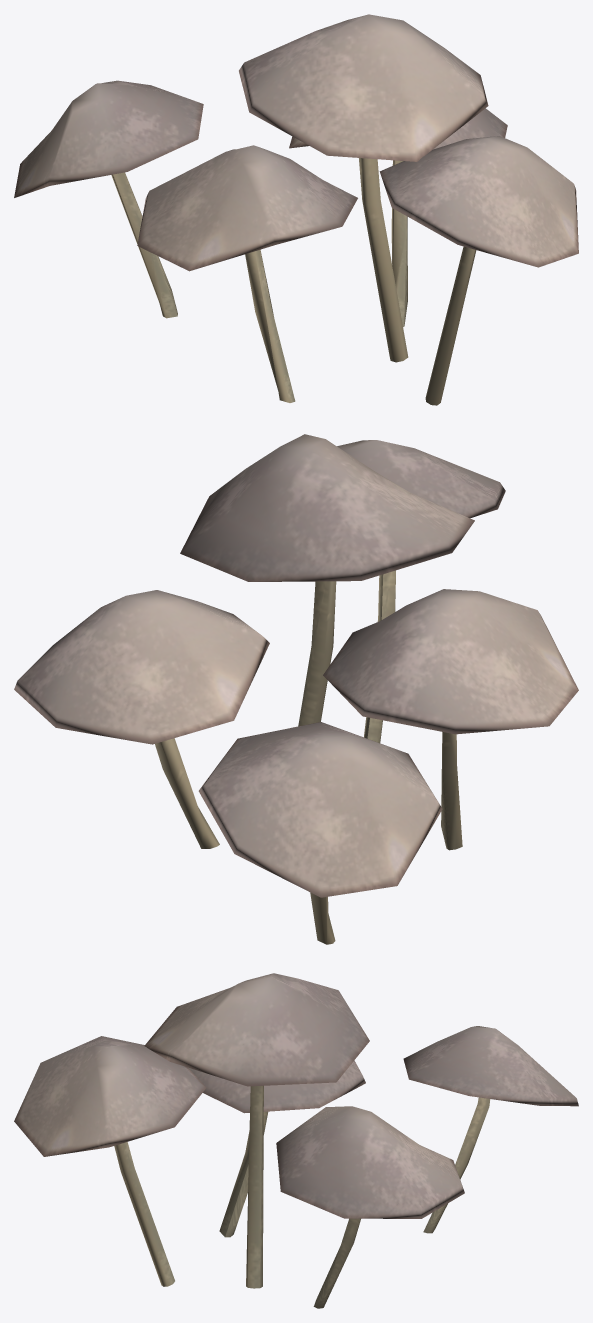
File: Mushroom_Common.gltf
The picture shows the model from 3 angles, top to bottom: view 1: azimuth 30°, elevation 25°; view 2: azimuth 150°, elevation 25°; view 3: azimuth 270°, elevation 25°; orthographic projection. The views are drawn at different scales.
Parts seen in each view (by area): view 1: Mushroom_Common; view 2: Mushroom_Common; view 3: Mushroom_Common.
Part boxes in pixels (x1,y1,x2,y2): Mushroom_Common: (14, 14, 578, 405); Mushroom_Common: (14, 434, 578, 944); Mushroom_Common: (14, 973, 578, 1308).
Bounding box in the file's own units: 0.5637 × 0.4635 × 0.7791.
1 material, 1 textured.
